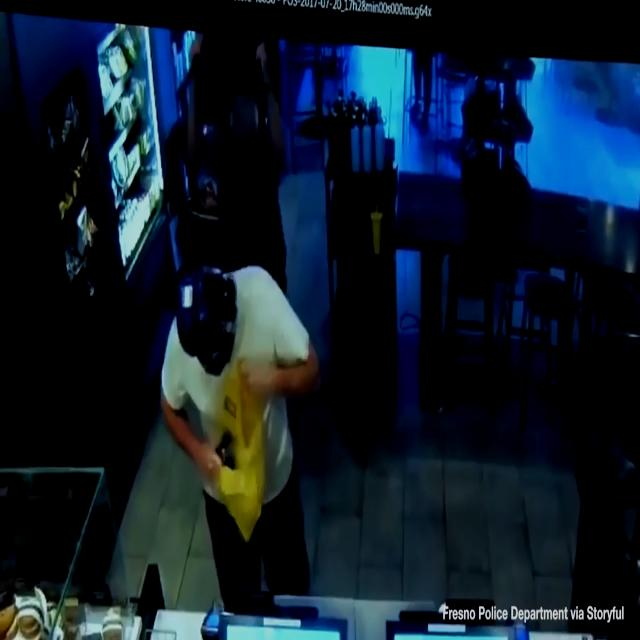fight: (165, 38, 285, 604)
